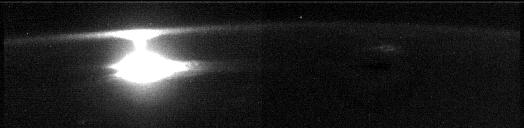negative: (103, 28, 176, 49)
